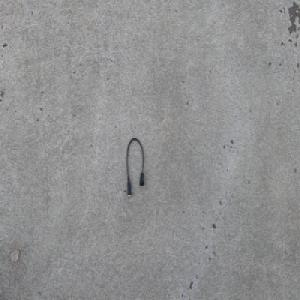Wire: (125, 136, 144, 197)
